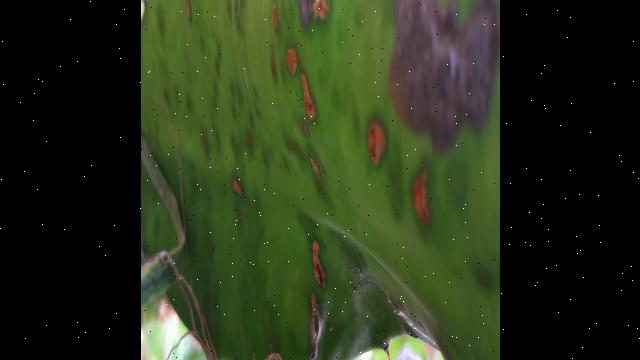stemcanker: (407, 163, 436, 232), (364, 116, 391, 170), (306, 290, 327, 358), (305, 235, 330, 290), (300, 73, 321, 126), (308, 0, 335, 26), (282, 44, 303, 77), (229, 175, 247, 200)
